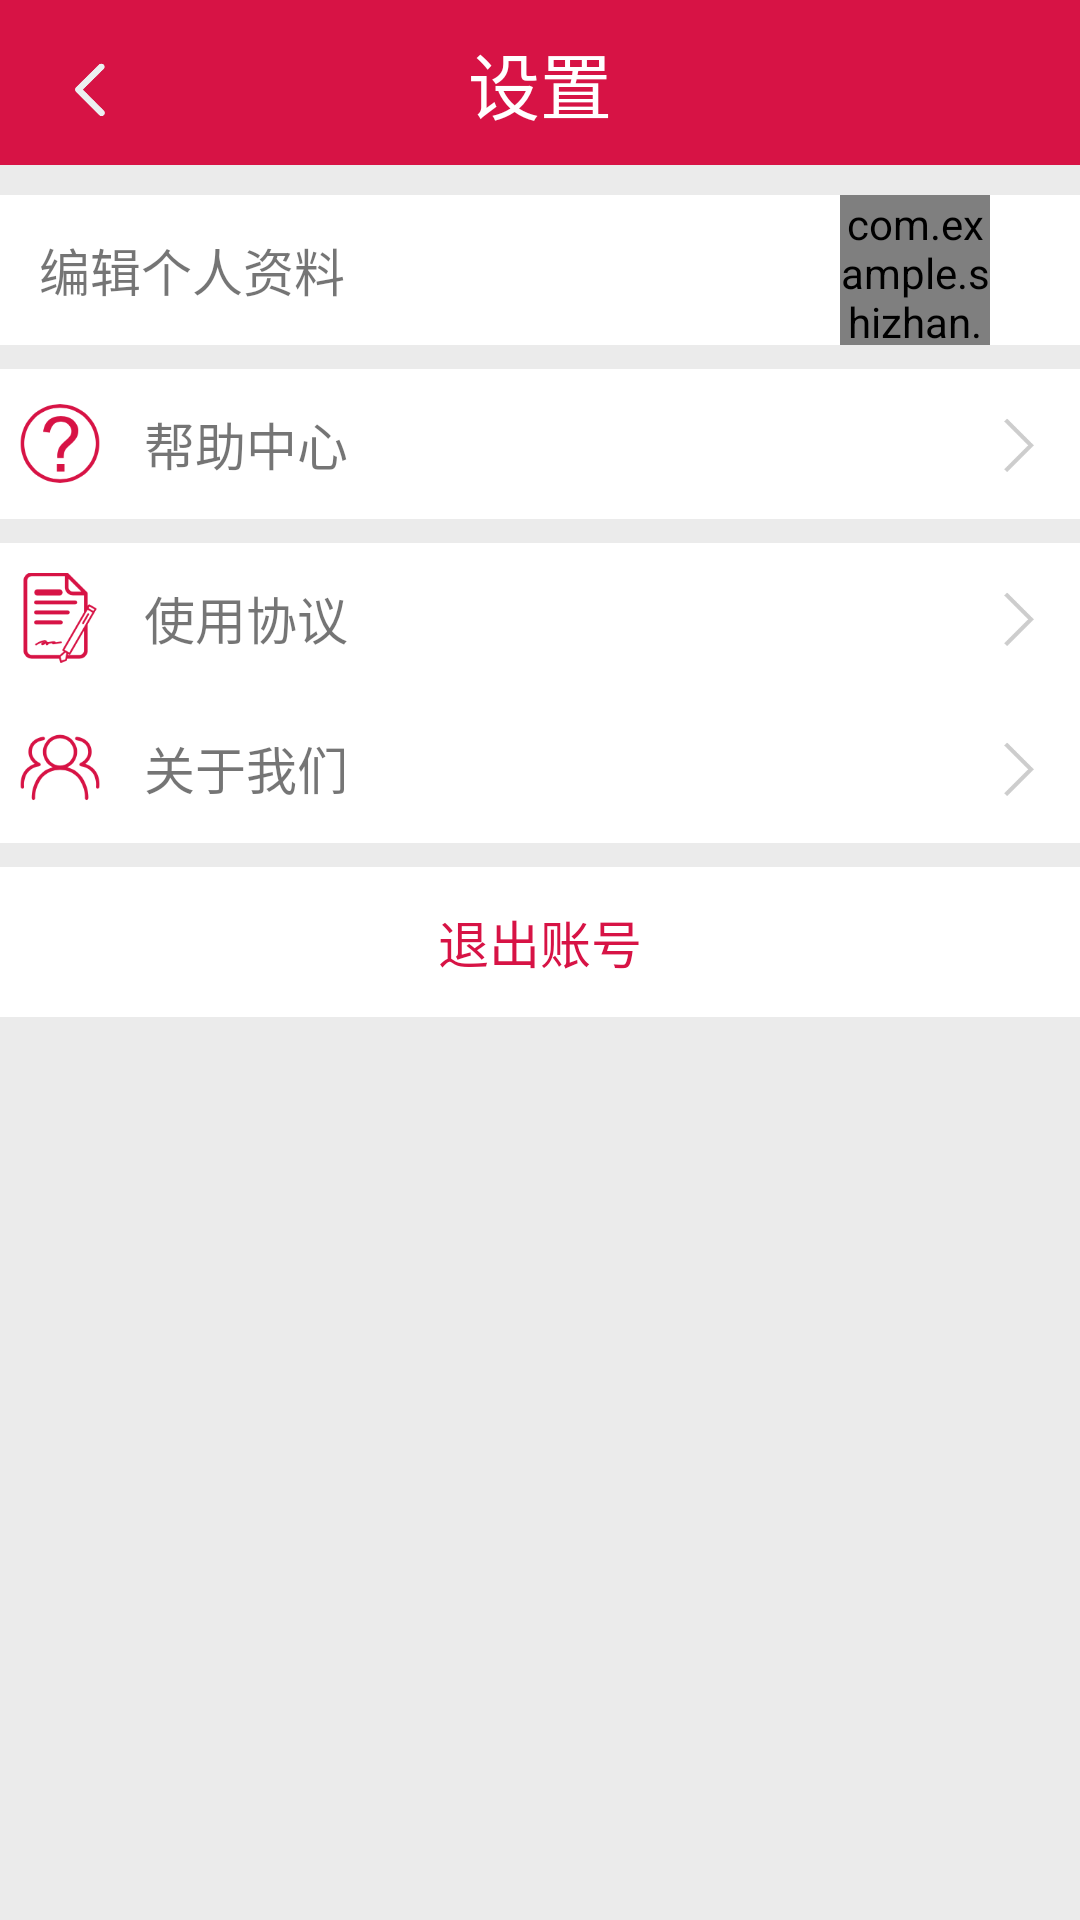

Icon bounding boxes for this 1080w x 1920h phone screenshot, format (x1, y1, x2, y2):
about: (20, 734, 100, 800)
back: (75, 63, 105, 116)
forward: (1004, 419, 1034, 472), (1004, 593, 1034, 646), (1004, 743, 1034, 796)
help: (20, 404, 100, 483)
protocol: (23, 573, 97, 663)
